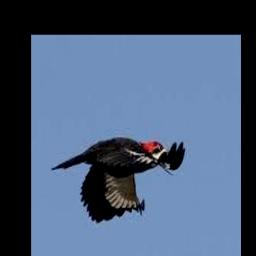Woodpecker: (50, 136, 185, 223)
